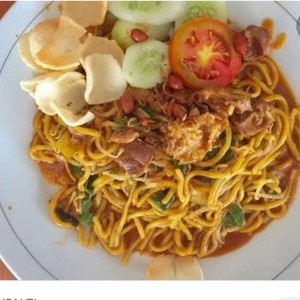mie_aceh: (27, 74, 300, 258)
